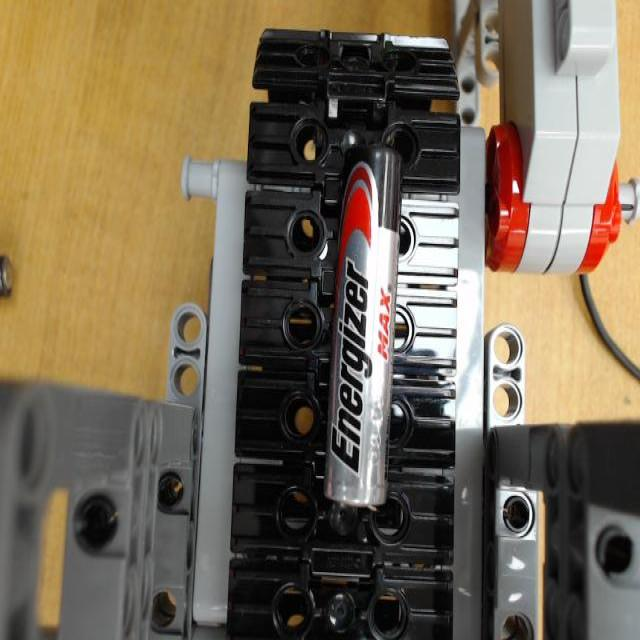AAA: (325, 134, 400, 510)
